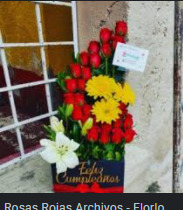RedRose: (61, 91, 86, 106), (69, 59, 90, 76), (76, 105, 96, 121), (79, 52, 100, 66), (98, 26, 115, 42), (110, 127, 123, 145), (90, 123, 103, 141), (65, 77, 86, 88), (122, 130, 138, 143), (104, 121, 112, 144), (102, 45, 115, 57), (118, 20, 129, 34), (88, 41, 101, 51), (124, 115, 134, 127), (122, 106, 132, 116), (116, 36, 128, 42)
